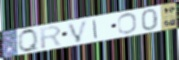0: (140, 8, 159, 32)
I: (92, 18, 99, 40)
O: (117, 12, 139, 35)
Q: (16, 28, 41, 53)
R: (39, 24, 63, 49)
V: (66, 19, 90, 44)
